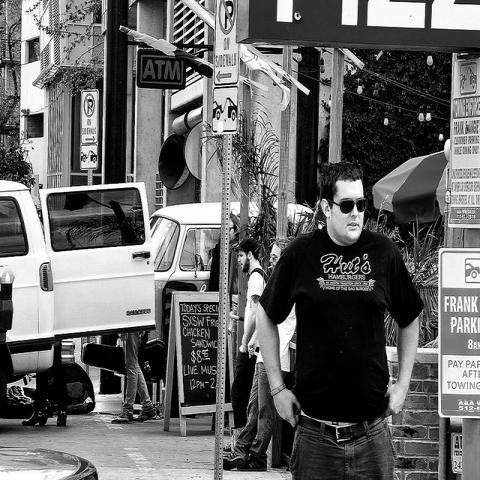car: (3, 179, 155, 372), (153, 198, 223, 346)
truck: (0, 177, 157, 400)
